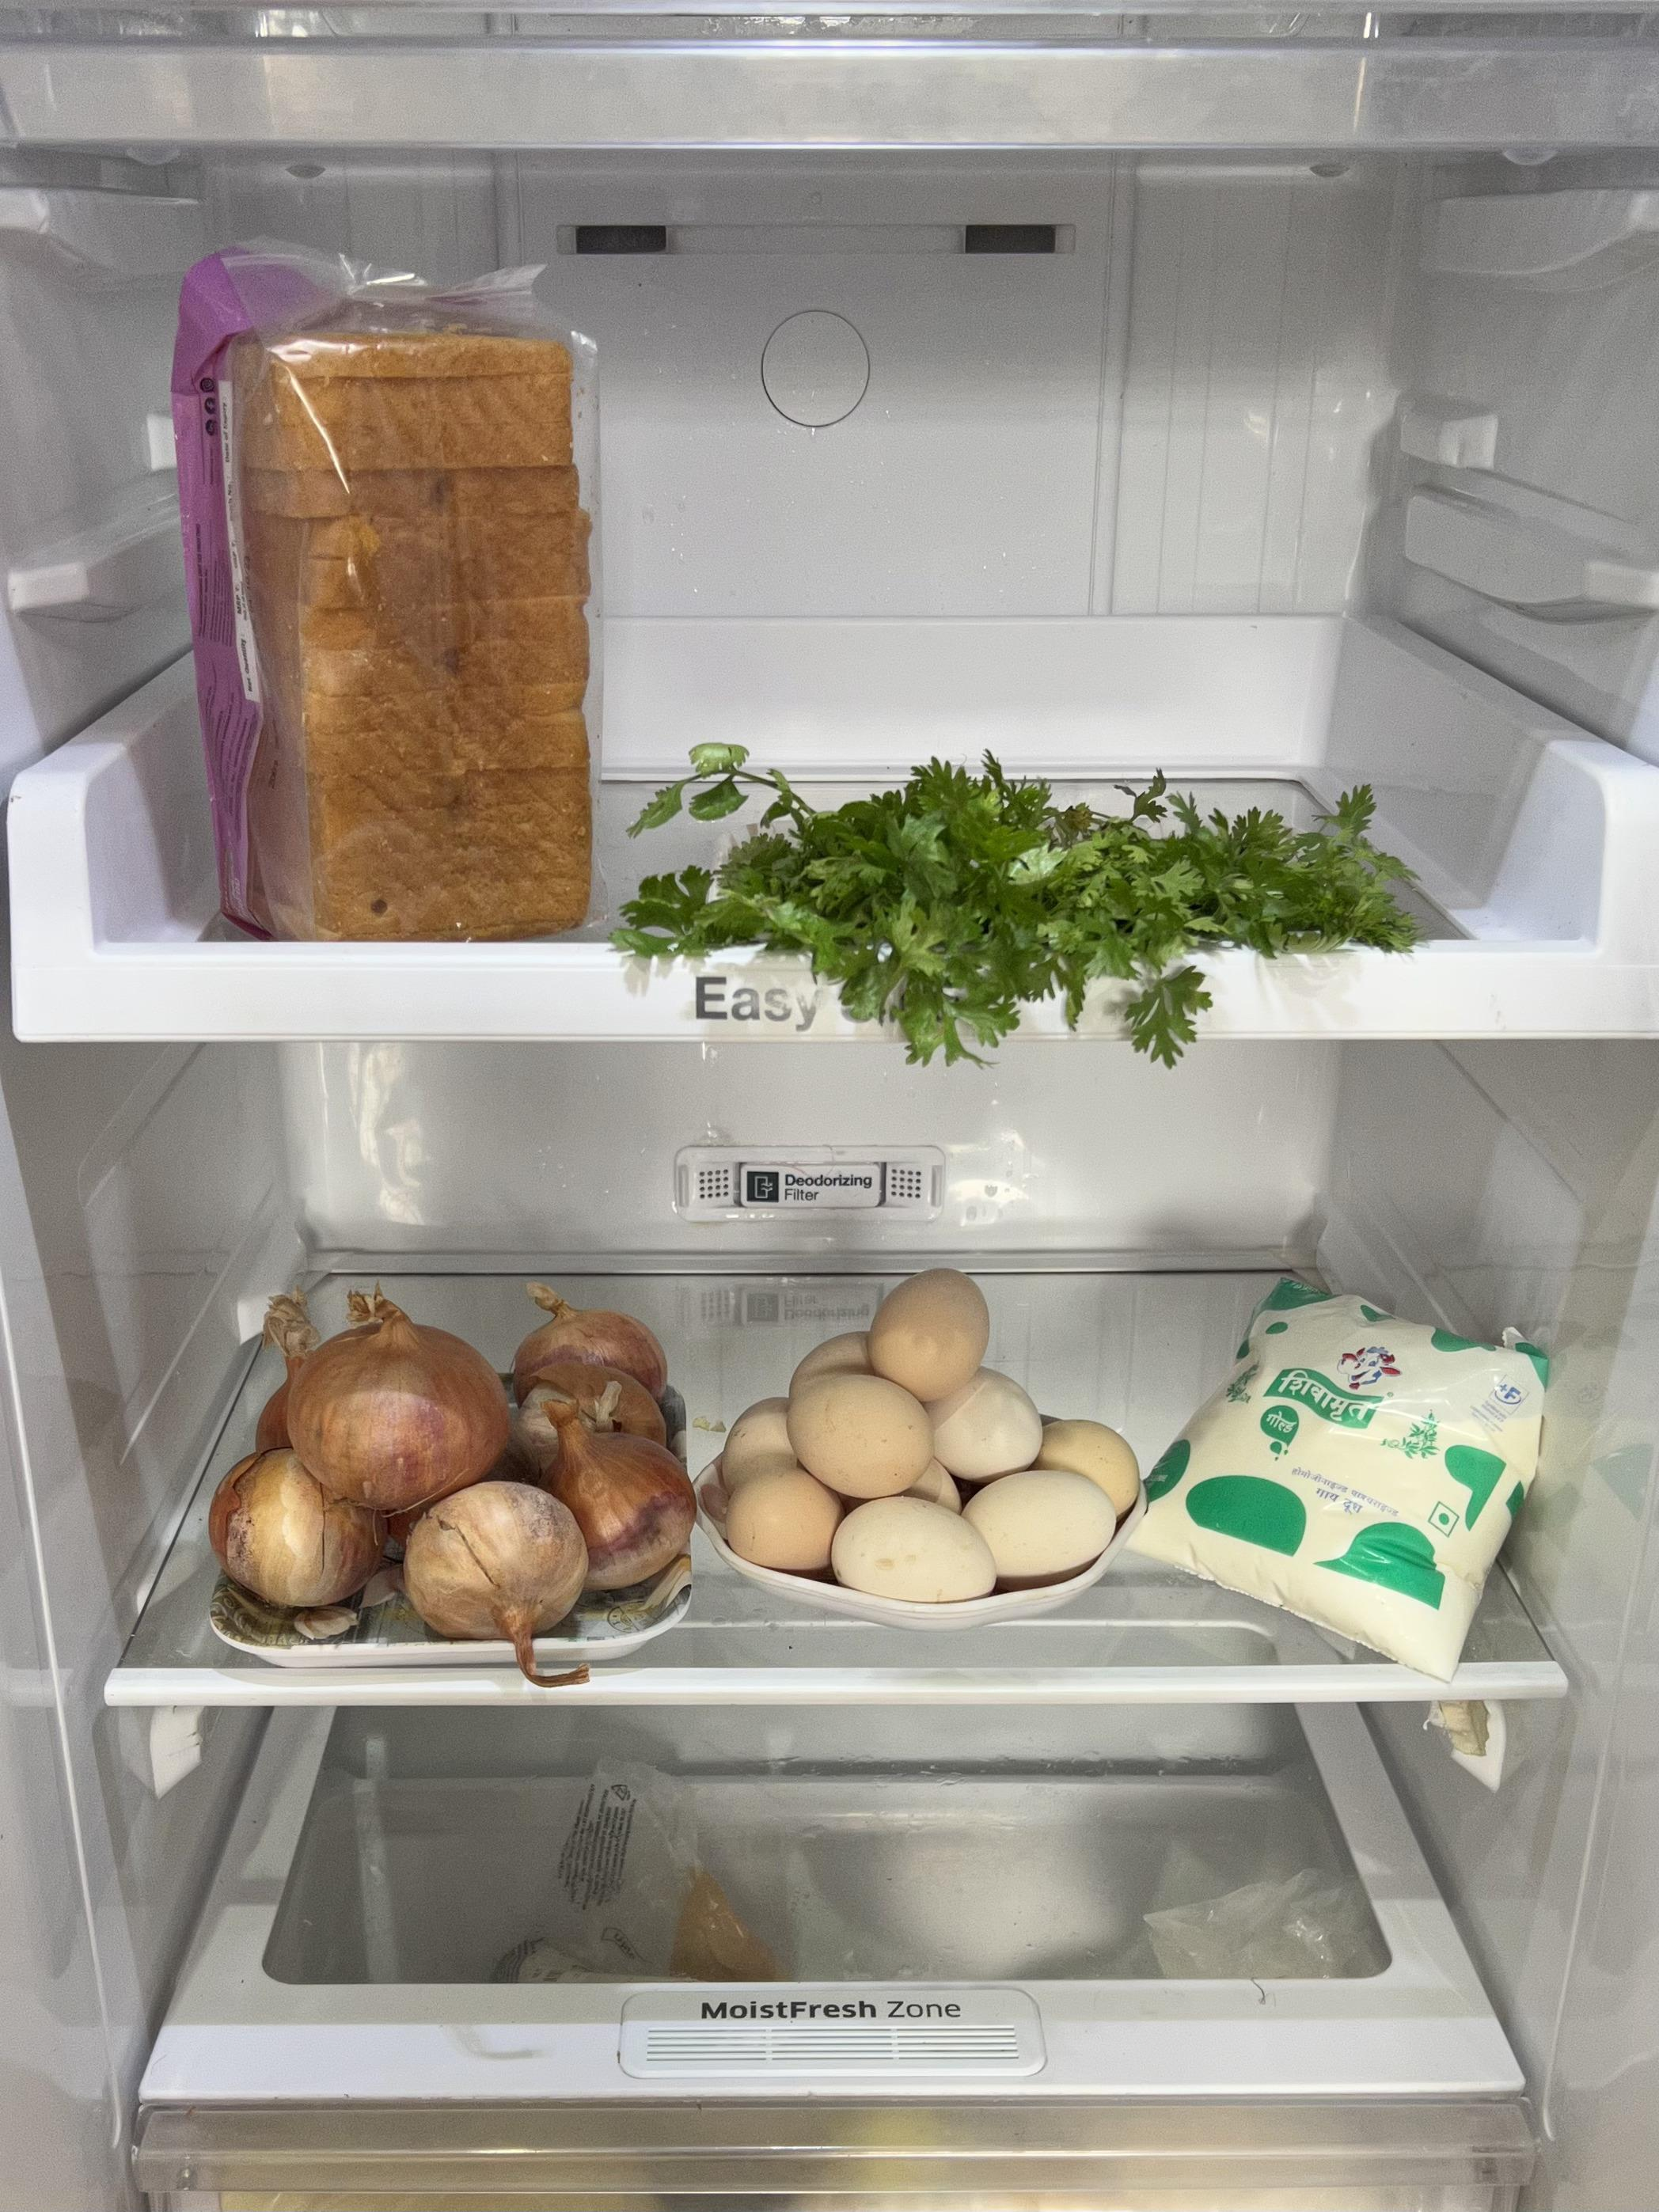bread: (152, 235, 601, 942)
coriander: (622, 744, 1438, 991)
egg: (706, 1277, 1138, 1597)
milk: (1152, 1268, 1544, 1651)
onion: (209, 1268, 674, 1639)
